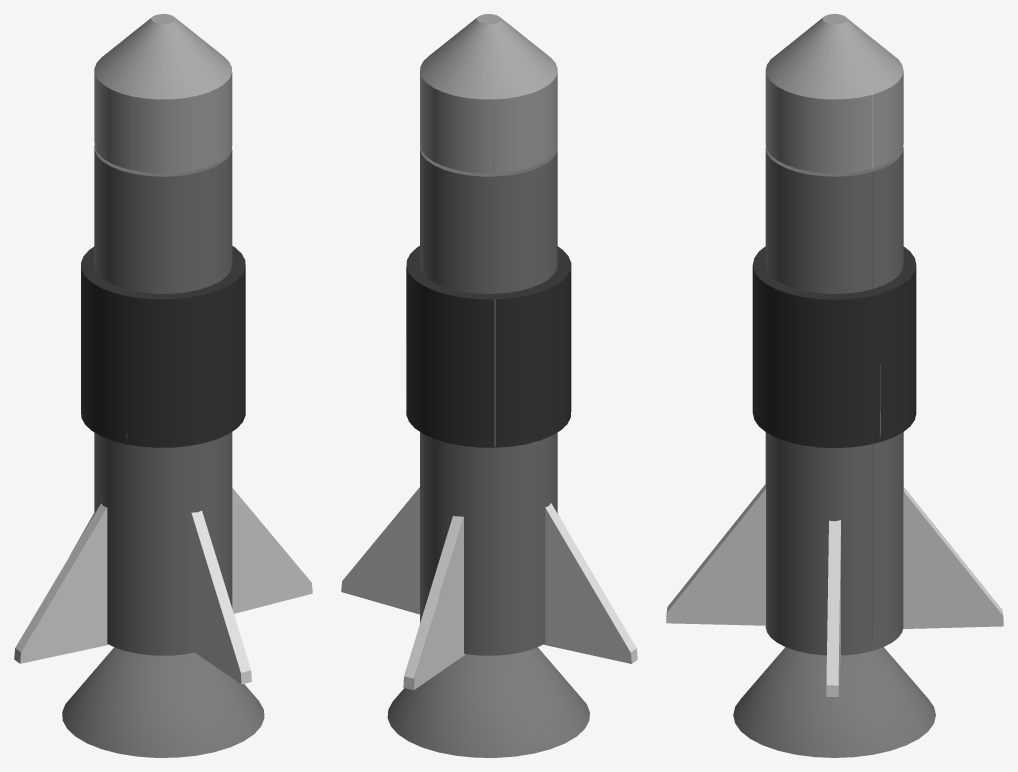
File: rocket.fbx
3 views of the same model, side by side, from view 1: azimuth 30°, elevation 25°; view 2: azimuth 150°, elevation 25°; view 3: azimuth 270°, elevation 25° (orthographic).
Visible parts, largest first — view 1: Rocket.001; view 2: Rocket.001; view 3: Rocket.001.
Boxes of the visible parts, x1,y1,x2,y2 form: Rocket.001: [14, 14, 312, 757]; Rocket.001: [341, 14, 637, 757]; Rocket.001: [666, 14, 1003, 757].
Size of the model in its own units: 488 by 1113 by 489.
1 material, 1 textured.
